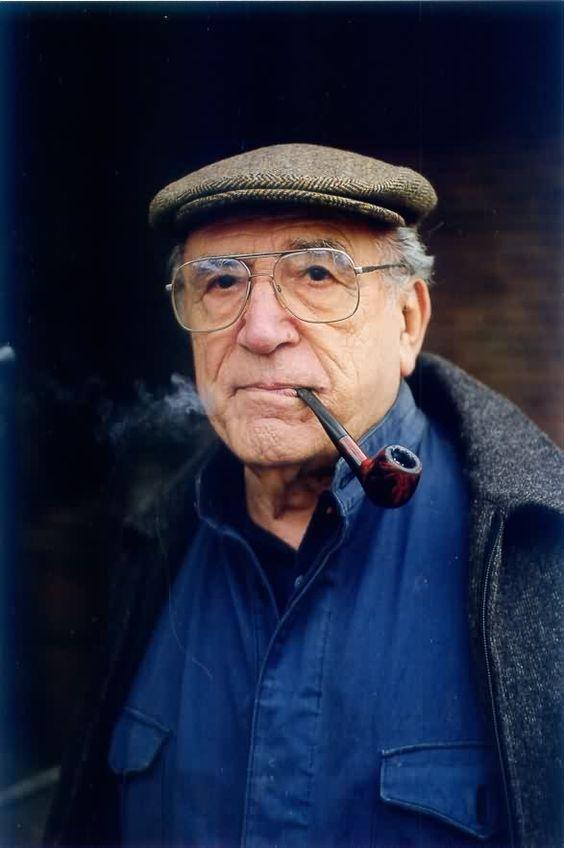trubka: (296, 388, 421, 506)
